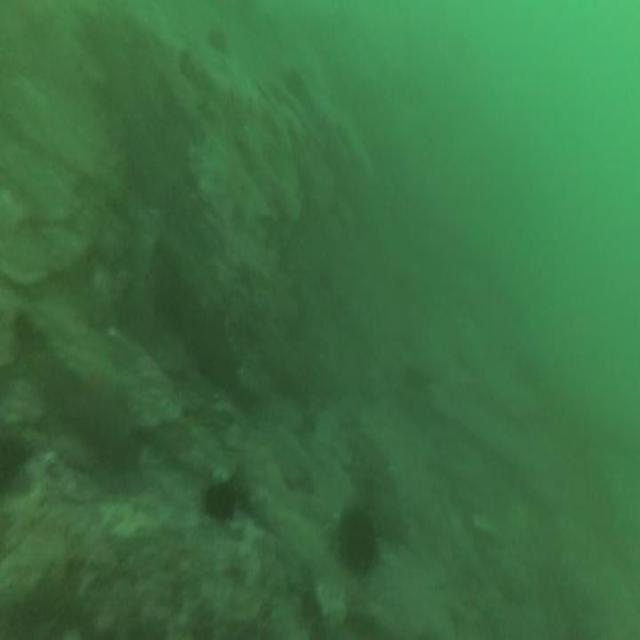echinus: (340, 509, 378, 575), (205, 482, 234, 520), (208, 25, 226, 54)
starfish: (70, 363, 124, 412)
